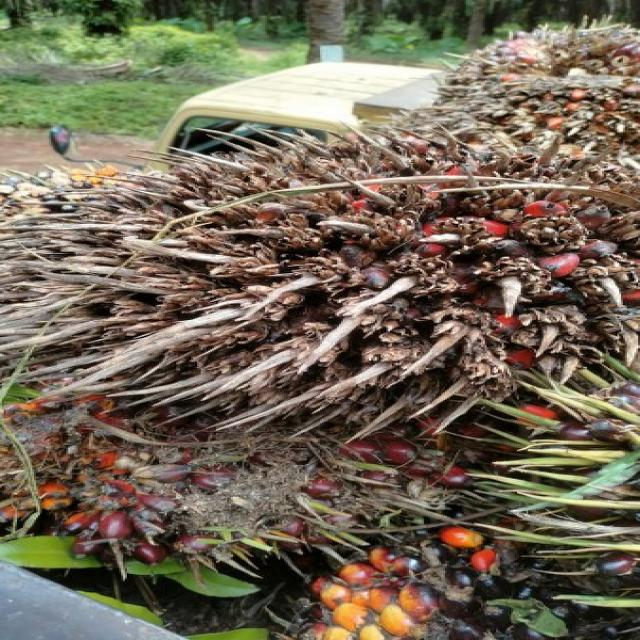fraksi 4: (0, 100, 640, 456)
